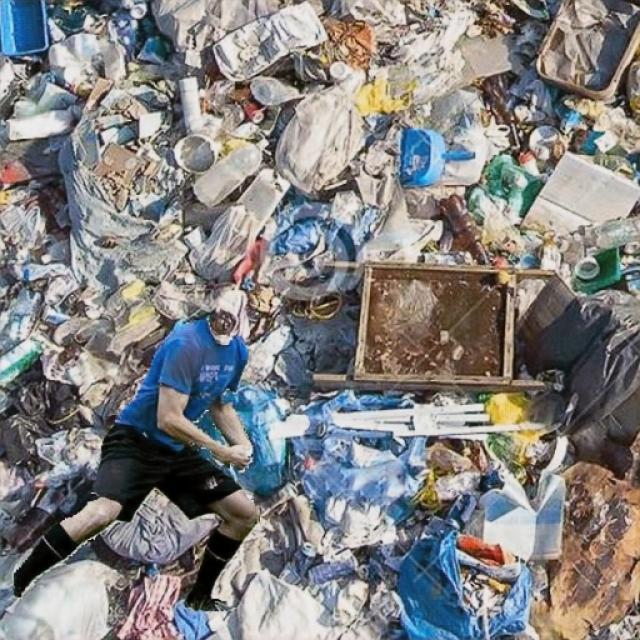Person in Rubble: (14, 318, 260, 610)
